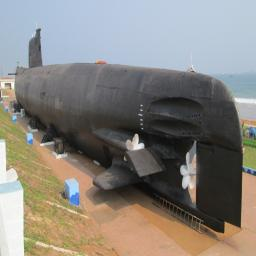submarine: (16, 29, 243, 241)
